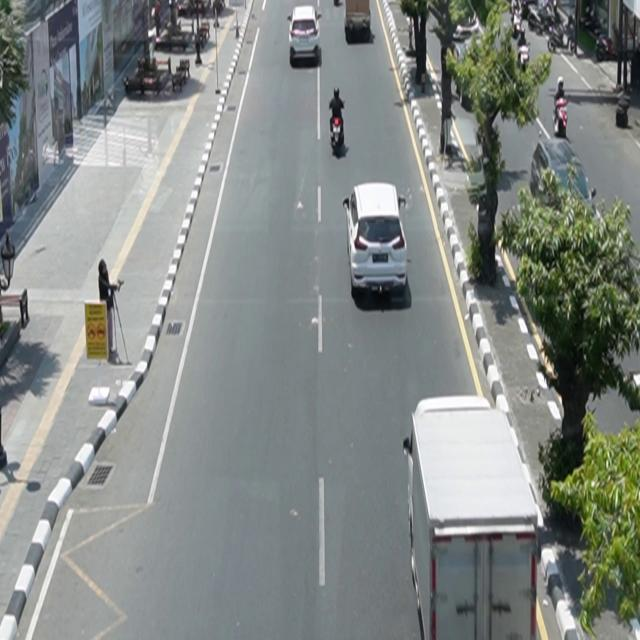bus: (404, 394, 544, 640)
car: (343, 183, 409, 298), (288, 6, 323, 68)
